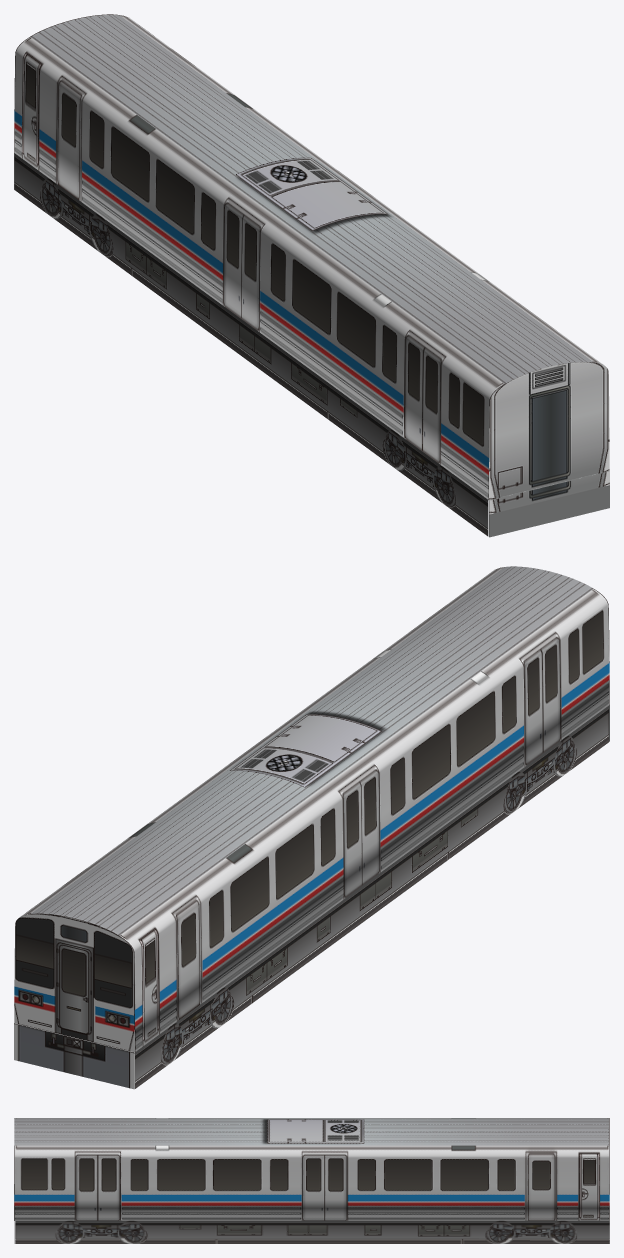
Rendered from car3.glb.
The picture shows the model from 3 angles, top to bottom: view 1: azimuth 30°, elevation 25°; view 2: azimuth 150°, elevation 25°; view 3: azimuth 270°, elevation 25°; orthographic projection. The views are drawn at different scales.
Parts seen in each view (by area): view 1: jr-shikoku-6000-car3; view 2: jr-shikoku-6000-car3; view 3: jr-shikoku-6000-car3.
Boxes of the visible parts, left/top/right/bottom form: jr-shikoku-6000-car3: left=14, top=14, right=609, bottom=537; jr-shikoku-6000-car3: left=14, top=566, right=609, bottom=1089; jr-shikoku-6000-car3: left=14, top=1118, right=609, bottom=1243.
Bounding box in the file's own units: 2.95 × 3.64 × 20.13.
9 materials, 8 textured.
